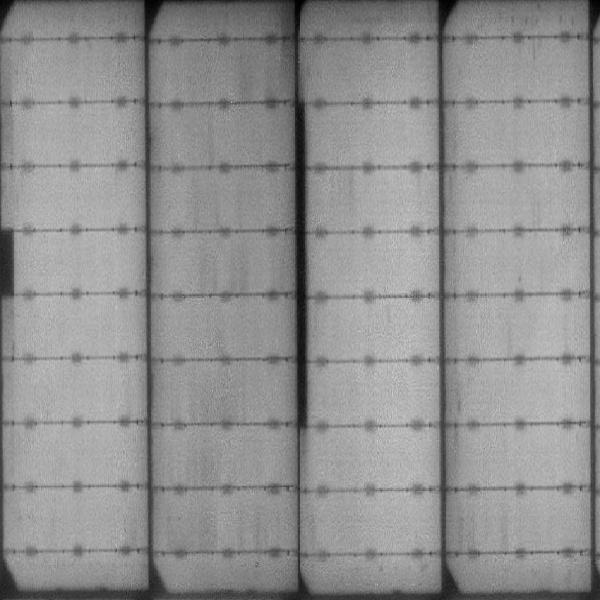black_border: (290, 96, 308, 430), (1, 225, 19, 306)
